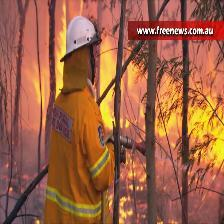fire: (100, 25, 220, 157), (22, 8, 64, 93)
